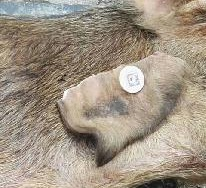text: (110, 58, 155, 99)
